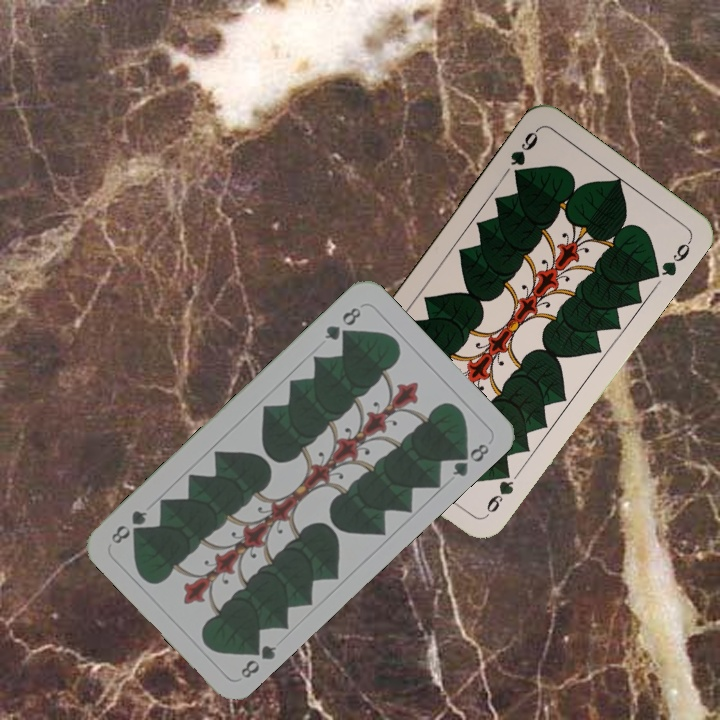G8: (236, 637, 279, 681), (320, 303, 364, 343)
G9: (506, 125, 541, 182), (481, 465, 516, 520)
